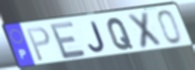0: (156, 8, 185, 46)
E: (48, 20, 88, 61)
J: (88, 20, 106, 53)
P: (25, 25, 52, 63)
Q: (106, 17, 135, 51)
X: (126, 10, 165, 51)
